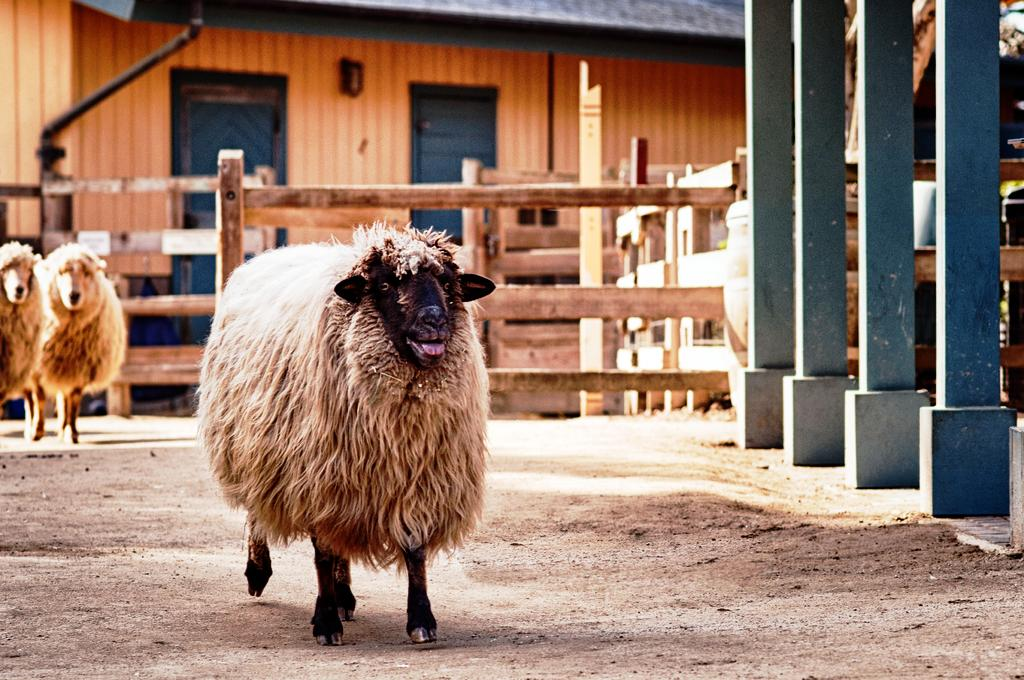Sheep: (190, 214, 494, 646), (34, 240, 129, 446), (0, 239, 45, 446)
